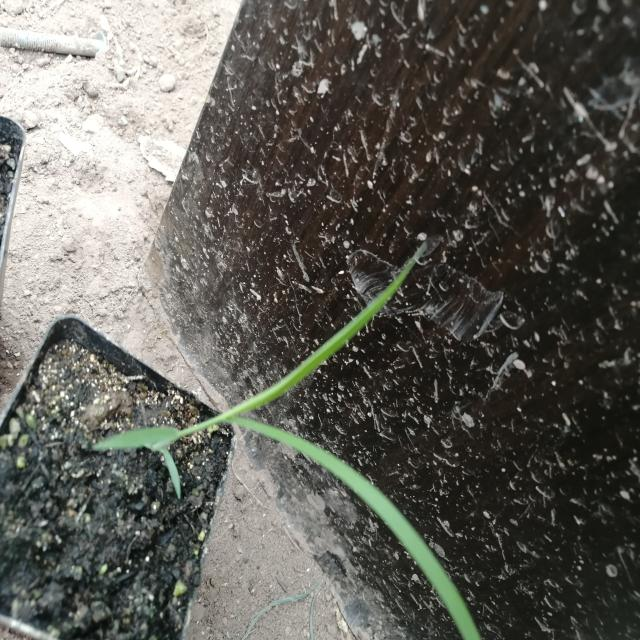crabgrass: (94, 256, 445, 577)
